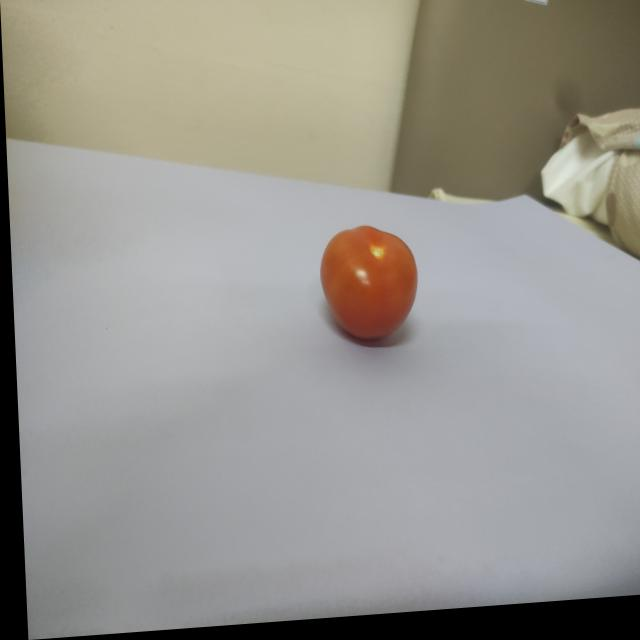sari: (305, 204, 430, 360)
